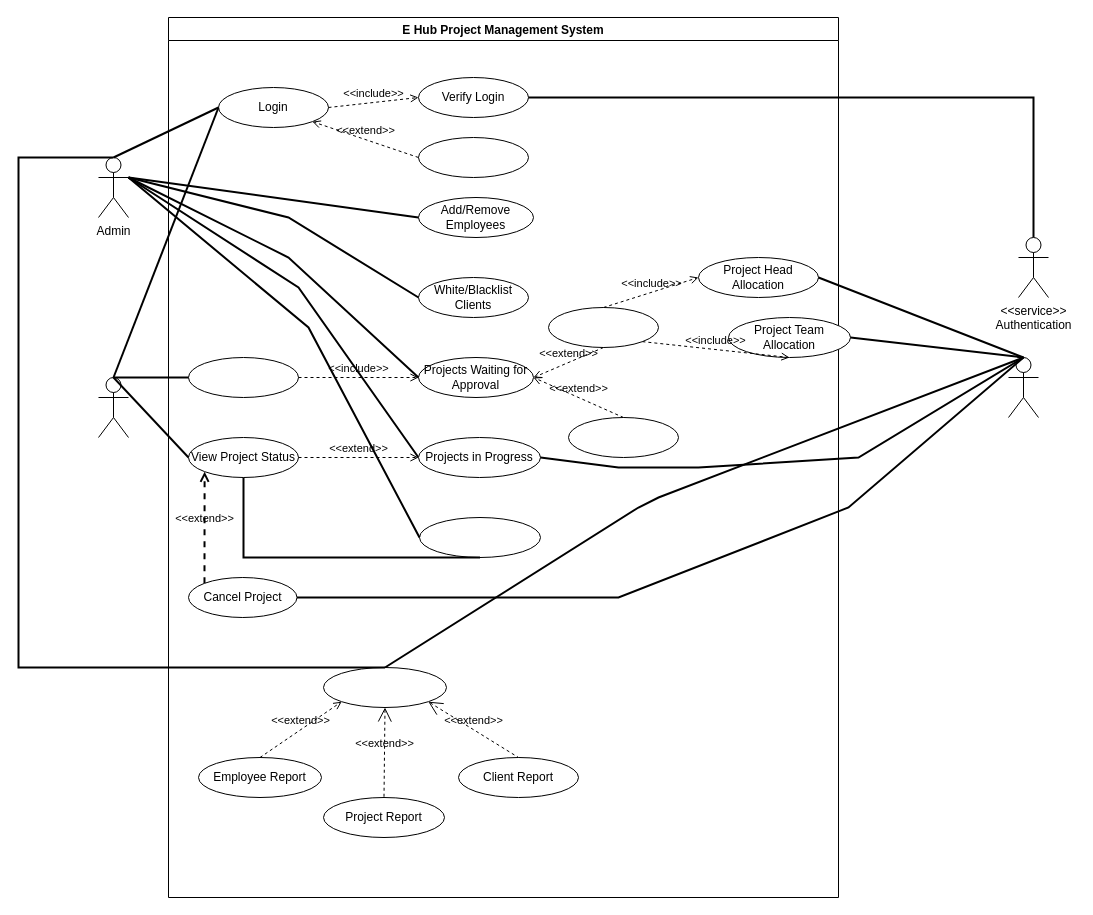
This 1093x915 diagram has some shape labels left out. The centre of each missing label's shape, as x and y in pixels:
"Authentication Failure" goes at (x=473, y=157).
"Client" goes at (x=113, y=407).
"Company Database" goes at (x=1023, y=387).
"Project Approved" goes at (x=603, y=327).
"Project Reject" goes at (x=623, y=437).
"Report Generation" goes at (x=384, y=687).
"Request New Project" goes at (x=243, y=377).
"Status Updation" goes at (x=479, y=537).
